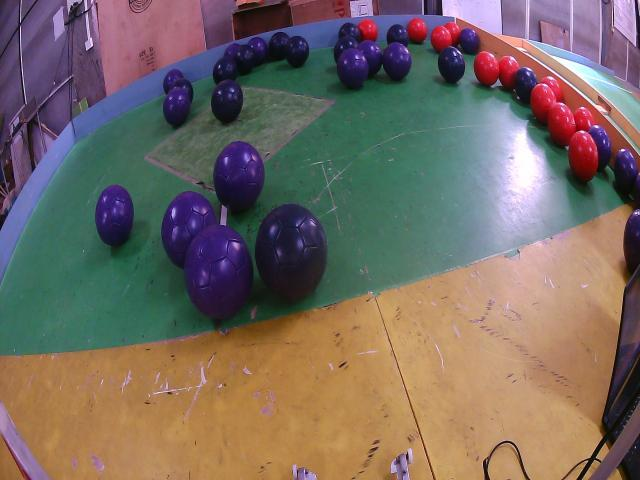jambhalya: (184, 225, 254, 320), (161, 190, 218, 267), (212, 142, 265, 212), (95, 185, 134, 246), (336, 48, 369, 88), (162, 87, 191, 127), (614, 148, 638, 195), (382, 42, 411, 80), (589, 125, 611, 172), (358, 40, 382, 76), (162, 68, 184, 95), (248, 37, 268, 64), (460, 28, 479, 53), (632, 172, 640, 208), (224, 43, 240, 58)
kaalyya: (255, 203, 328, 302), (211, 80, 244, 123), (624, 208, 640, 273), (438, 47, 465, 83), (514, 67, 538, 103), (285, 35, 309, 68), (212, 57, 238, 85), (334, 35, 359, 63), (234, 45, 256, 75), (269, 32, 289, 60), (171, 78, 194, 101), (386, 25, 409, 47), (339, 22, 361, 42)
